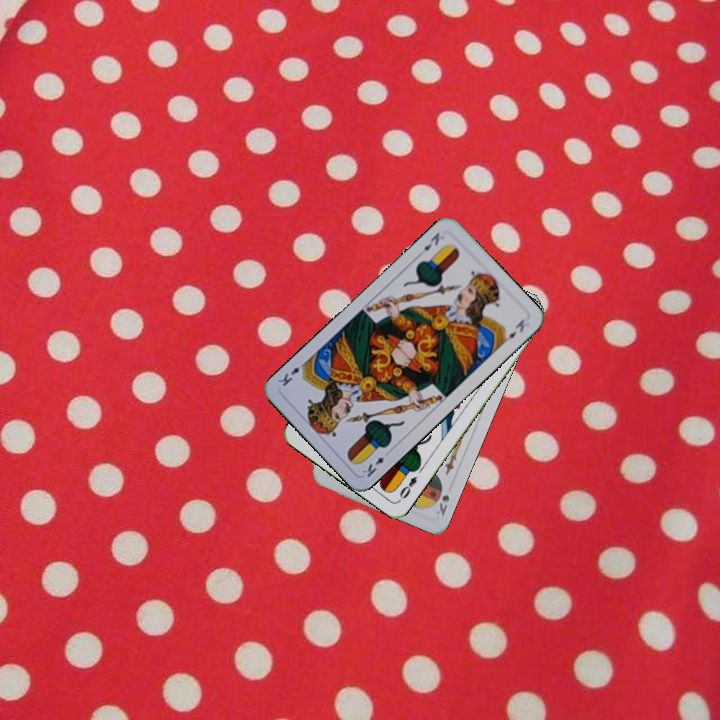EK: (358, 446, 393, 480), (419, 228, 442, 253)
EO: (395, 472, 420, 504)
SK: (432, 491, 452, 518)
